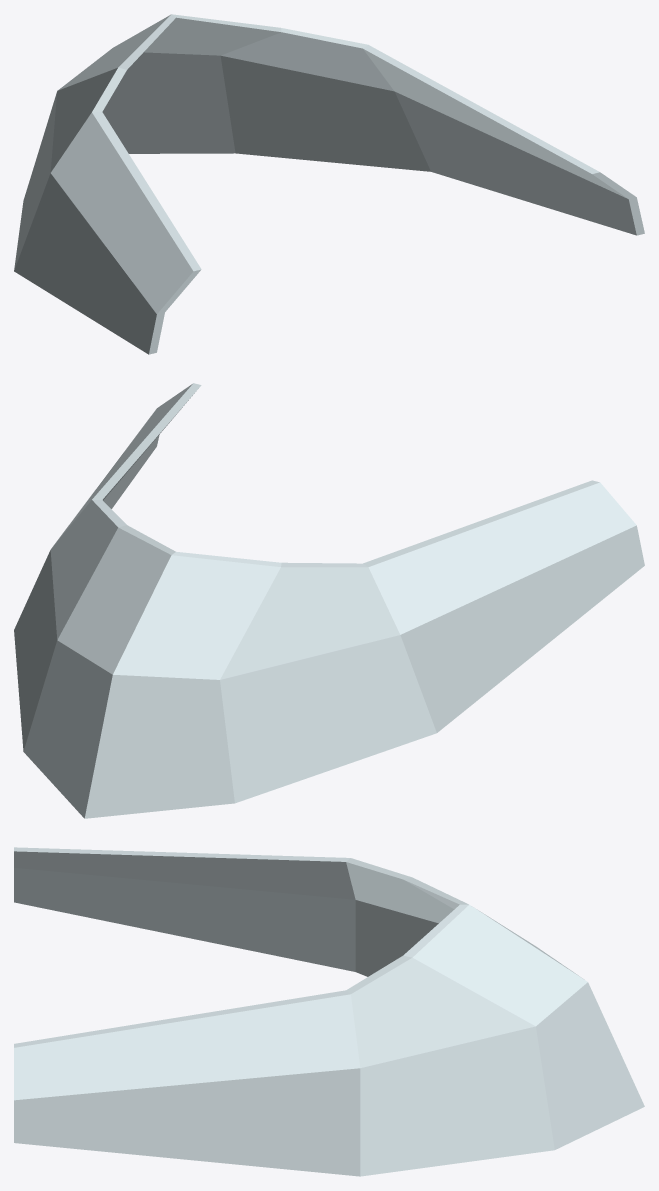
File: cockpit_window.obj
3 views of the same model, one above another, from view 1: azimuth 30°, elevation 25°; view 2: azimuth 150°, elevation 25°; view 3: azimuth 270°, elevation 25° (orthographic).
Visible parts, largest first — view 1: window; view 2: window; view 3: window.
Boxes of the visible parts, x1,y1,x2,y2 form: window: (14, 14, 644, 354); window: (14, 383, 644, 818); window: (14, 847, 644, 1176).
Bounding box in the file's own units: 3.81 × 1.47 × 4.16.
Materials: 1 (1 with a texture image).
